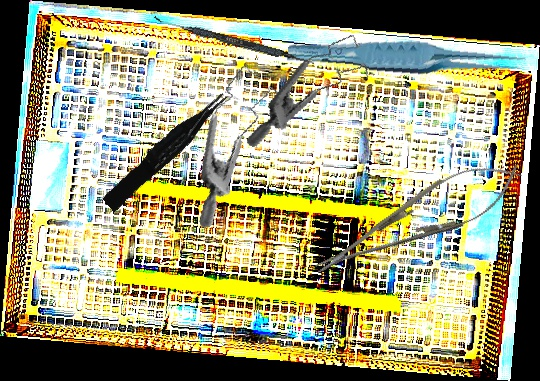Needle Holder: (303, 145, 531, 293)
Spatula Surgical: (152, 16, 316, 66)
Speculum: (169, 59, 305, 229), (245, 14, 380, 174)
Tissue Forceps: (97, 89, 237, 213), (286, 25, 527, 91)
